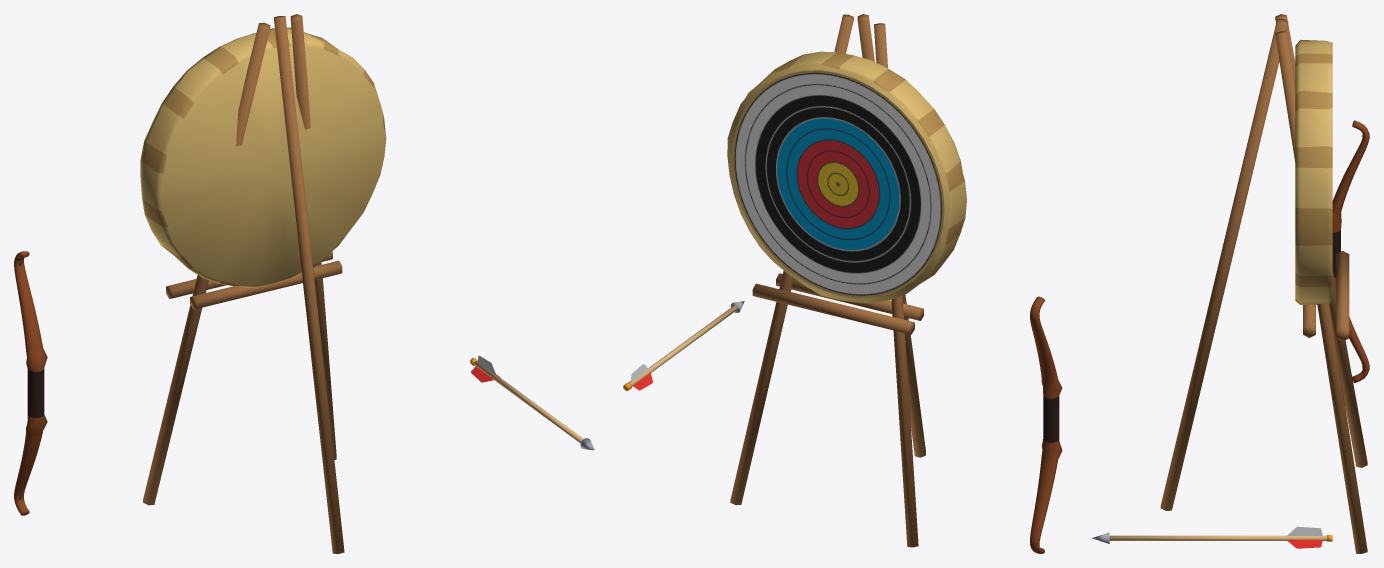
The model's file is bullseye.glb.
3 renders of one model, left to right at view 1: azimuth 30°, elevation 25°; view 2: azimuth 150°, elevation 25°; view 3: azimuth 270°, elevation 25°, orthographic. The views are drawn at different scales.
Visible parts, largest first — view 1: Target, Bow, Arrow; view 2: Target, Bow, Arrow; view 3: Target, Bow, Arrow.
Part boxes in pixels (x1=…): Target: x1=140, y1=14, x2=386, y2=553; Bow: x1=14, y1=251, x2=47, y2=515; Arrow: x1=470, y1=355, x2=594, y2=450; Target: x1=727, y1=14, x2=966, y2=547; Bow: x1=1030, y1=296, x2=1062, y2=553; Arrow: x1=623, y1=301, x2=744, y2=390; Target: x1=1160, y1=14, x2=1367, y2=553; Bow: x1=1332, y1=120, x2=1369, y2=383; Arrow: x1=1092, y1=526, x2=1332, y2=548.
Bounding box in the file's own units: 6.28 × 6.48 × 3.34.
1 material, 1 textured.
